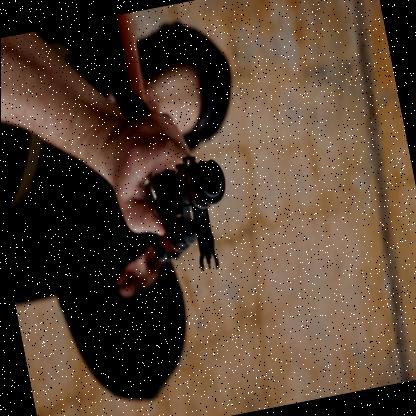rifle: (113, 109, 249, 295)
